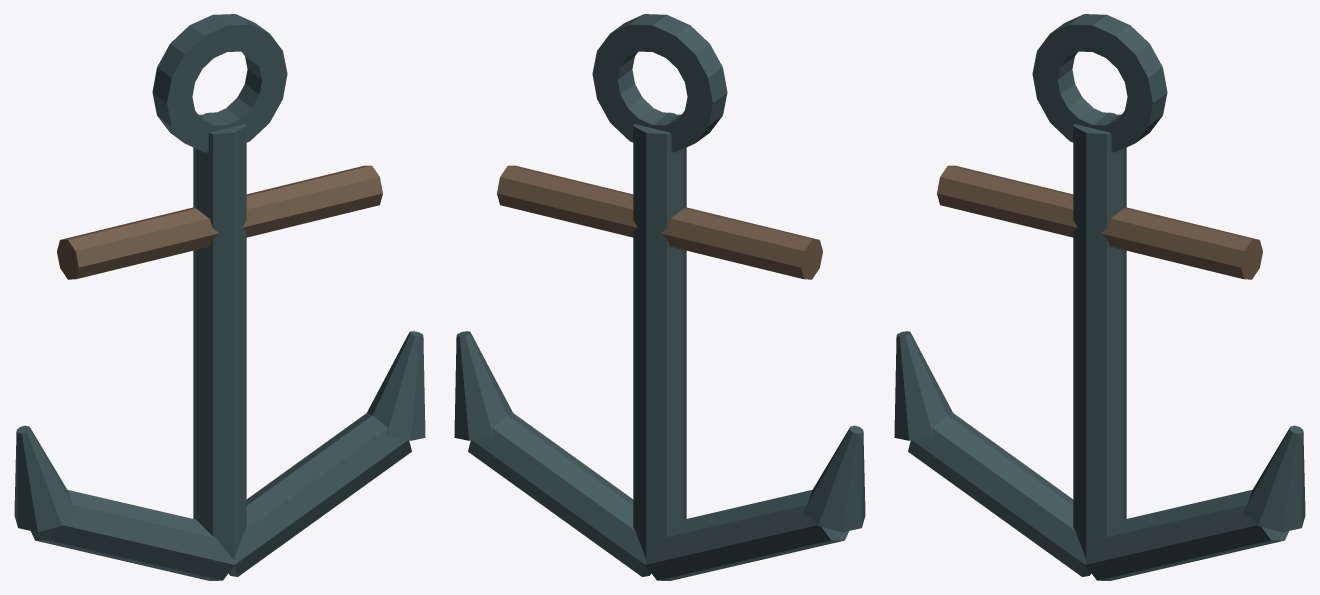
The model's file is anchor.glb.
3 views of the same model, side by side, from view 1: azimuth 30°, elevation 25°; view 2: azimuth 150°, elevation 25°; view 3: azimuth 330°, elevation 25° (orthographic).
Parts seen in each view (by area): view 1: anchor__body; view 2: anchor__body; view 3: anchor__body.
Part boxes in pixels (<box>): anchor__body: <box>14,14,425,580</box>; anchor__body: <box>454,14,865,580</box>; anchor__body: <box>894,14,1305,580</box>.
Bounding box in the file's own units: 1.28 × 1.68 × 0.18.
